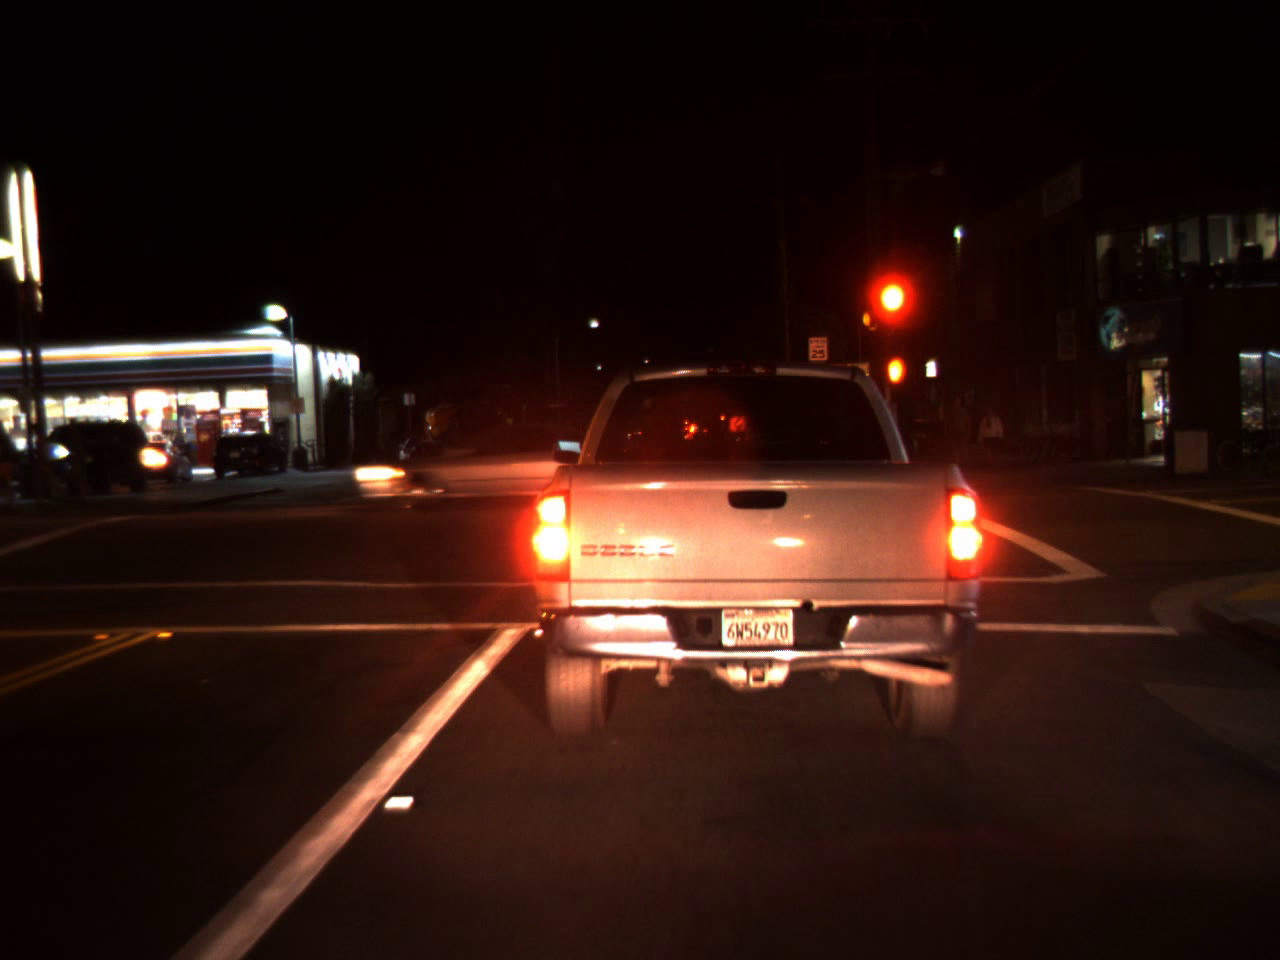stop: (874, 278, 907, 348)
